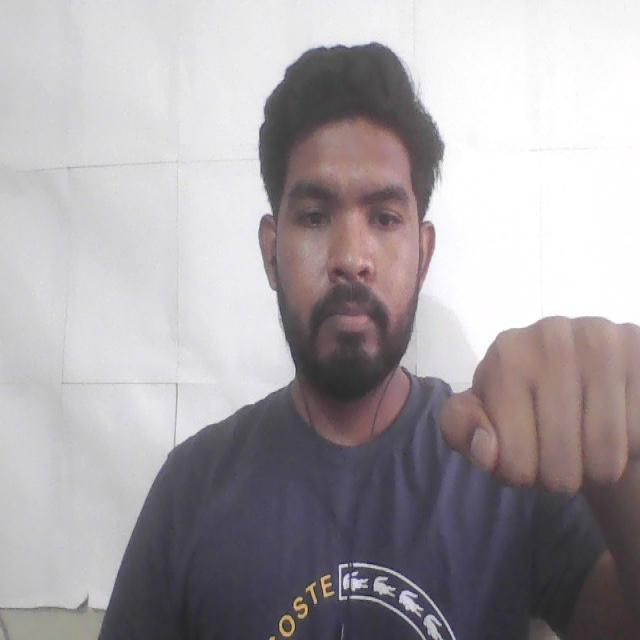Yes: (438, 291, 640, 543)
